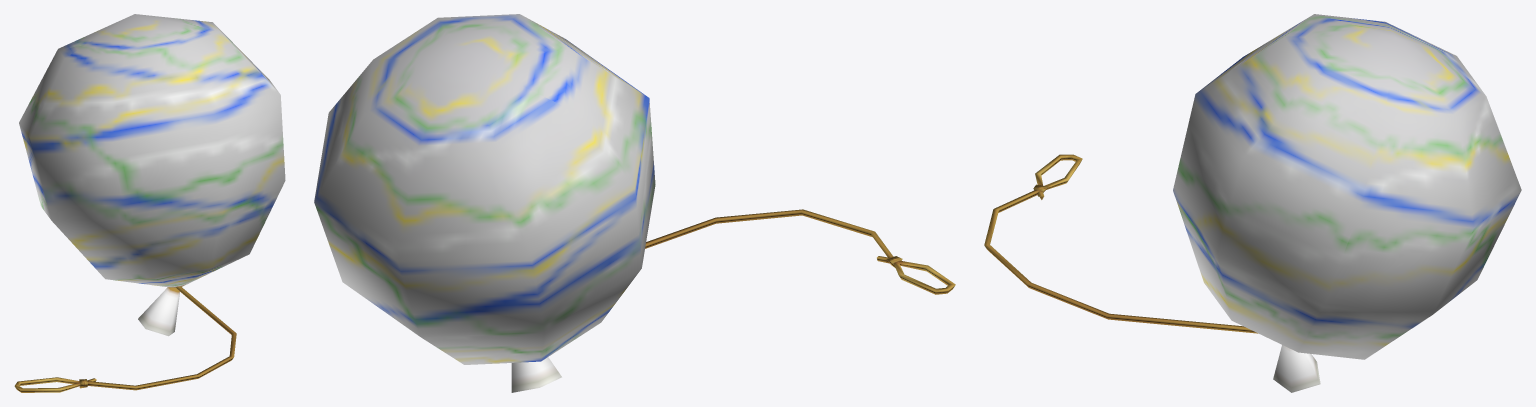
Rendered from jsf_WaterBalloon_14_c.fbx.
3 views of the same model, side by side, from view 1: azimuth 30°, elevation 25°; view 2: azimuth 150°, elevation 25°; view 3: azimuth 270°, elevation 25° (orthographic). The views are drawn at different scales.
Parts seen in each view (by area): view 1: jsf_WaterBalloon_14_c; view 2: jsf_WaterBalloon_14_c; view 3: jsf_WaterBalloon_14_c.
Boxes of the visible parts, left/top/right/bottom form: jsf_WaterBalloon_14_c: left=14, top=14, right=285, bottom=392; jsf_WaterBalloon_14_c: left=314, top=14, right=955, bottom=392; jsf_WaterBalloon_14_c: left=984, top=14, right=1521, bottom=392.
Size of the model in its own units: 16.89 by 12.55 by 17.11.
